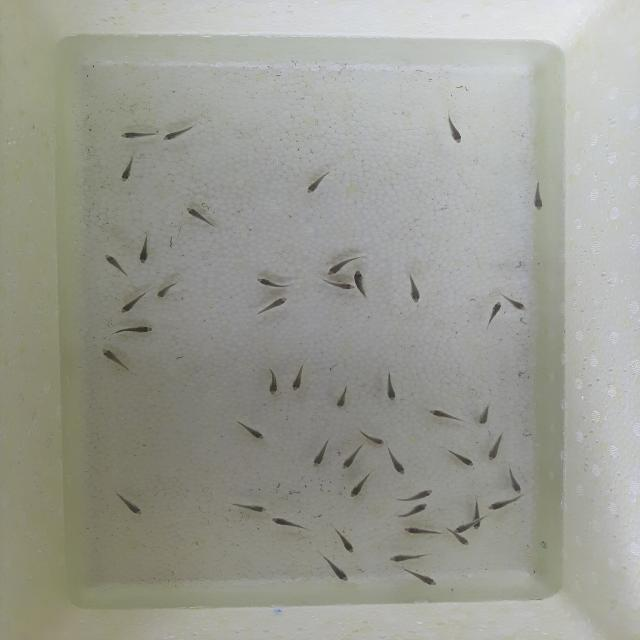fingerling: (399, 564, 439, 587), (102, 322, 158, 338), (441, 116, 469, 148), (305, 170, 338, 196), (115, 491, 146, 517), (183, 207, 220, 228), (116, 290, 147, 315), (306, 440, 332, 469), (100, 346, 130, 371), (288, 360, 310, 394), (335, 528, 359, 558), (404, 272, 426, 304), (386, 450, 410, 478), (159, 124, 196, 142), (256, 296, 289, 315), (117, 155, 138, 184), (482, 496, 518, 512), (328, 560, 352, 584), (100, 252, 126, 274), (136, 230, 151, 268), (380, 374, 400, 402), (265, 514, 300, 530), (486, 432, 504, 462), (154, 278, 176, 302), (239, 423, 272, 439), (399, 524, 447, 535), (264, 368, 282, 397), (255, 276, 298, 288), (407, 498, 434, 517), (339, 448, 362, 470), (448, 449, 476, 467), (345, 478, 370, 498), (425, 408, 458, 423), (336, 381, 353, 410), (402, 488, 437, 502), (322, 279, 354, 294), (226, 503, 273, 513), (507, 468, 525, 494), (533, 179, 546, 214), (476, 406, 496, 428), (324, 259, 349, 275), (453, 518, 478, 534), (386, 552, 424, 562), (361, 432, 388, 446), (116, 130, 157, 139), (487, 299, 503, 322), (352, 269, 370, 289), (472, 494, 481, 533), (509, 300, 532, 311), (455, 535, 472, 549)
